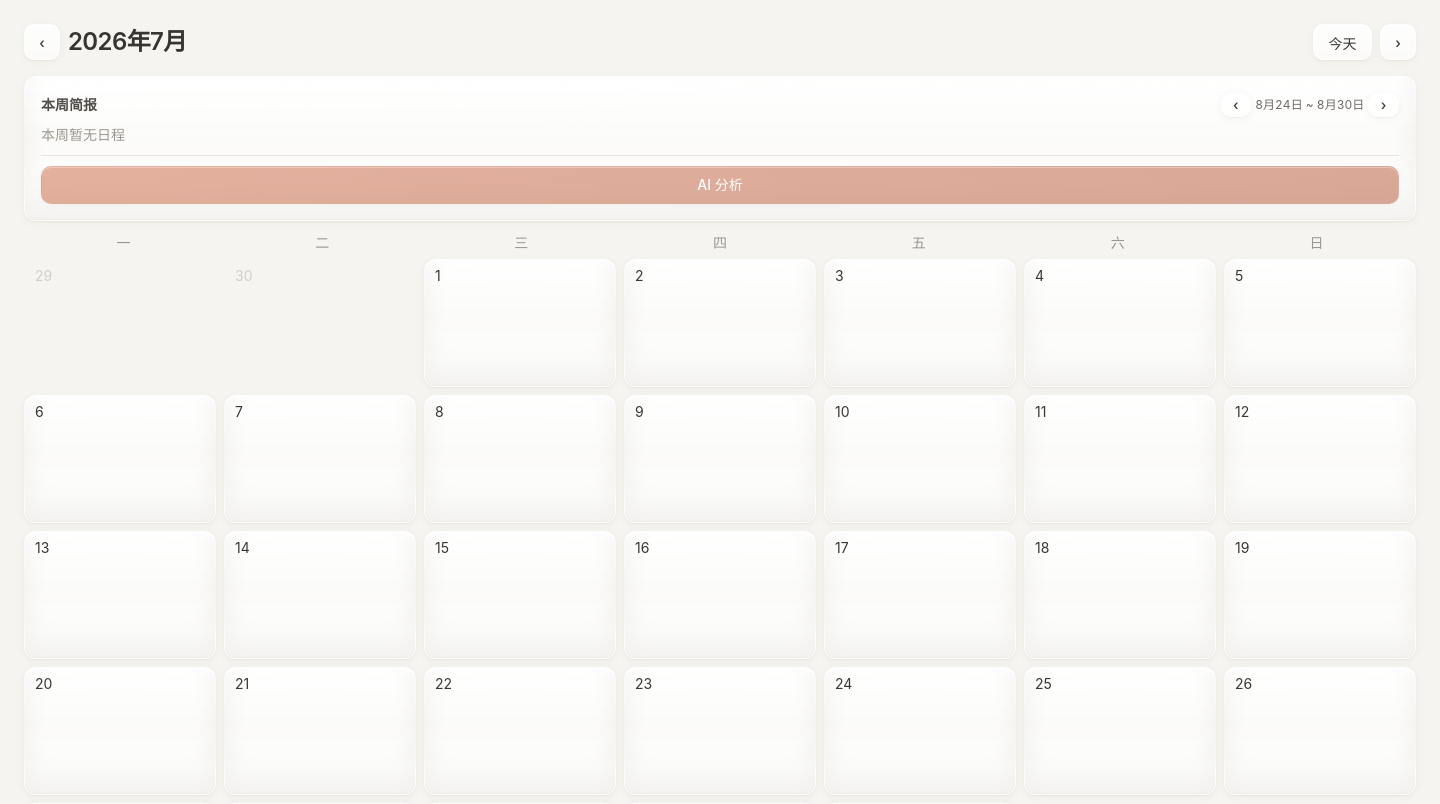
Test: MonthView › 非当月时显示「今天」按钮，点击回到当月并隐藏按钮
The width and height of the screenshot is (1440, 804).
Click the button "今天" at (1343, 42), box [1313,24,1372,60]
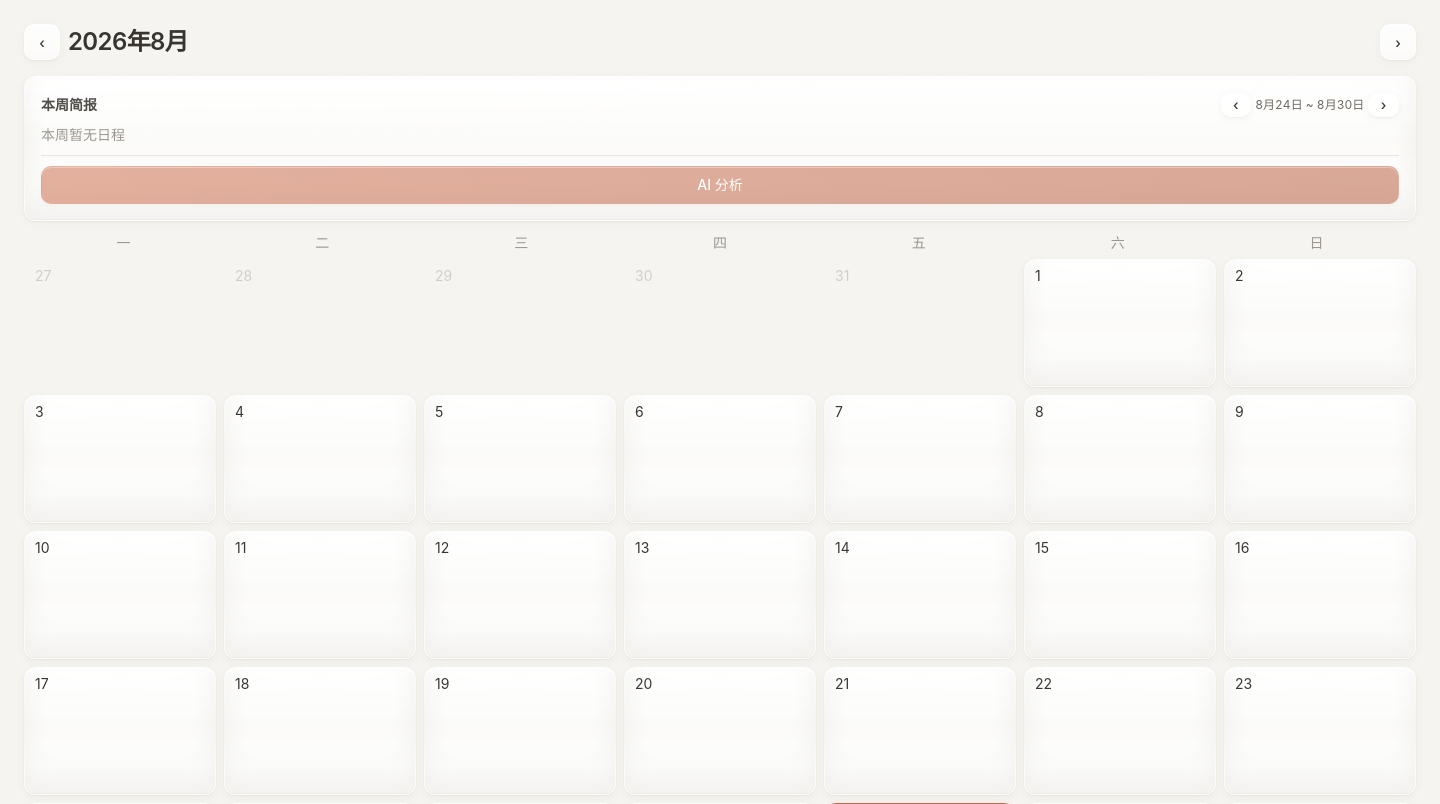
expect the heading "2026年8月" is shown: met, box [68,26,188,58]
expect the button "今天" is gone: met
